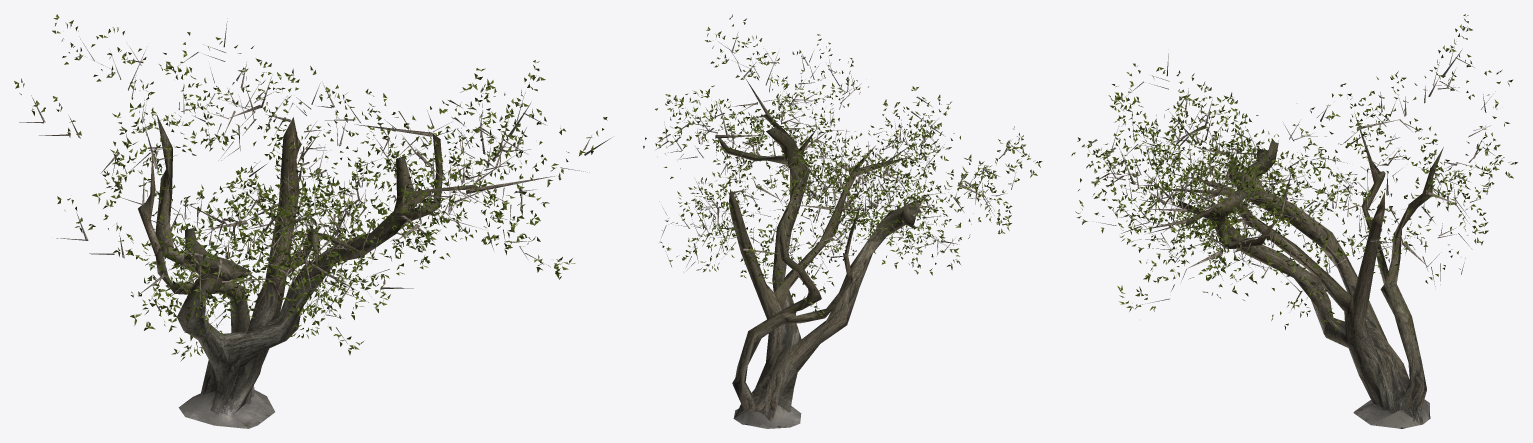
3 renders of one model, left to right at view 1: azimuth 30°, elevation 25°; view 2: azimuth 150°, elevation 25°; view 3: azimuth 270°, elevation 25°, orthographic. The views are drawn at different scales.
Visible parts, largest first — view 1: island_tree_02_LOD0.002, island_tree_02_LOD0.001, island_tree_02_LOD0; view 2: island_tree_02_LOD0.001, island_tree_02_LOD0.002, island_tree_02_LOD0; view 3: island_tree_02_LOD0.001, island_tree_02_LOD0.002, island_tree_02_LOD0.
Boxes of the visible parts, <box> form: island_tree_02_LOD0.002: <box>14,14,607,361</box>; island_tree_02_LOD0.001: <box>138,114,477,428</box>; island_tree_02_LOD0: <box>19,18,612,343</box>; island_tree_02_LOD0.001: <box>716,113,922,428</box>; island_tree_02_LOD0.002: <box>643,14,1042,319</box>; island_tree_02_LOD0: <box>656,32,1023,307</box>; island_tree_02_LOD0.001: <box>1154,113,1443,428</box>; island_tree_02_LOD0.002: <box>1071,14,1517,331</box>; island_tree_02_LOD0: <box>1084,41,1496,312</box>.
Size of the model in its own units: 4.01 by 3.41 by 4.03.
3 materials, 3 textured.
